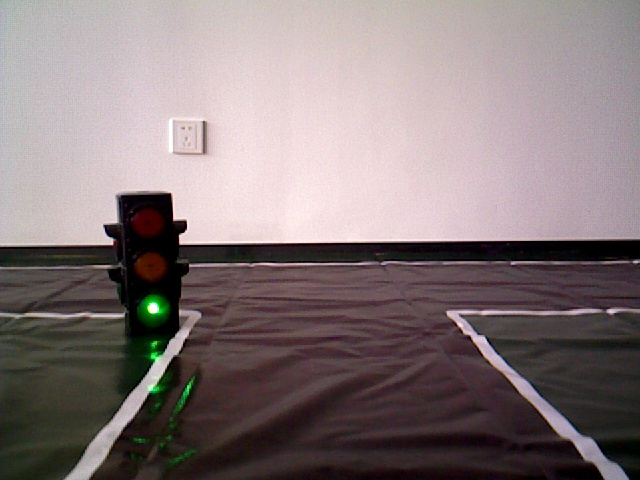green: (118, 196, 178, 327)
